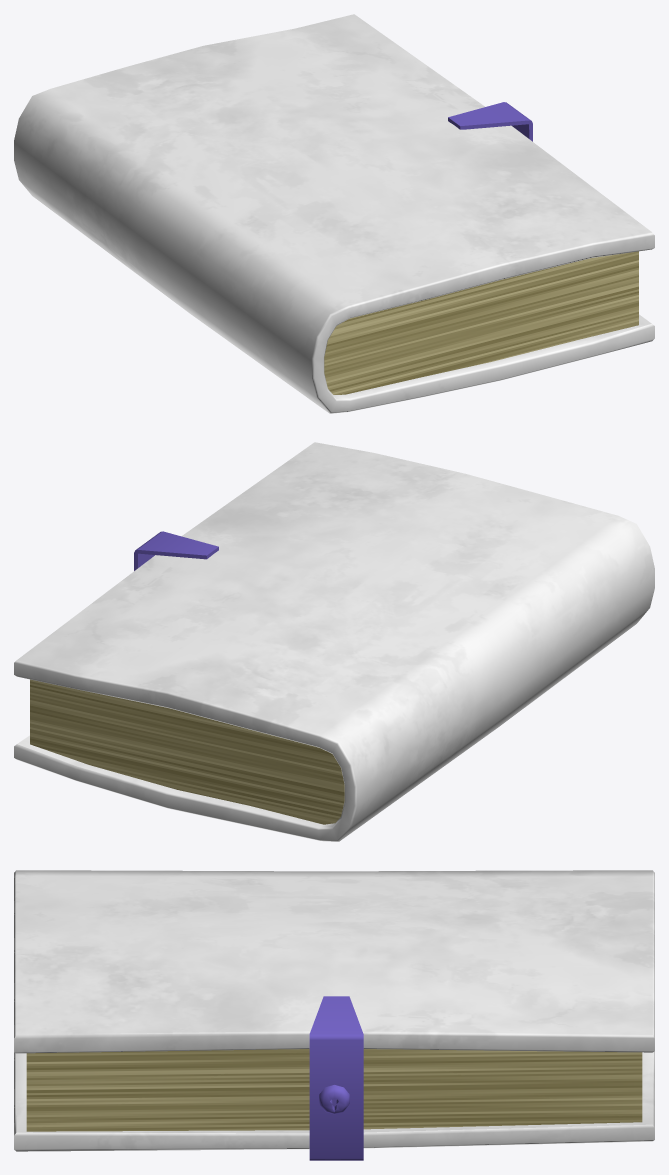
File: Book01.fbx
3 views of the same model, one above another, from view 1: azimuth 30°, elevation 25°; view 2: azimuth 150°, elevation 25°; view 3: azimuth 270°, elevation 25° (orthographic). The views are drawn at different scales.
Visible parts, largest first — view 1: Book01; view 2: Book01; view 3: Book01.
Part boxes in pixels (x1,y1,x2,y2): Book01: [14, 14, 654, 413]; Book01: [14, 442, 654, 841]; Book01: [14, 870, 654, 1160].
Size of the model in its own units: 0.2566 by 0.0856 by 0.364.
3 materials, 2 textured.
